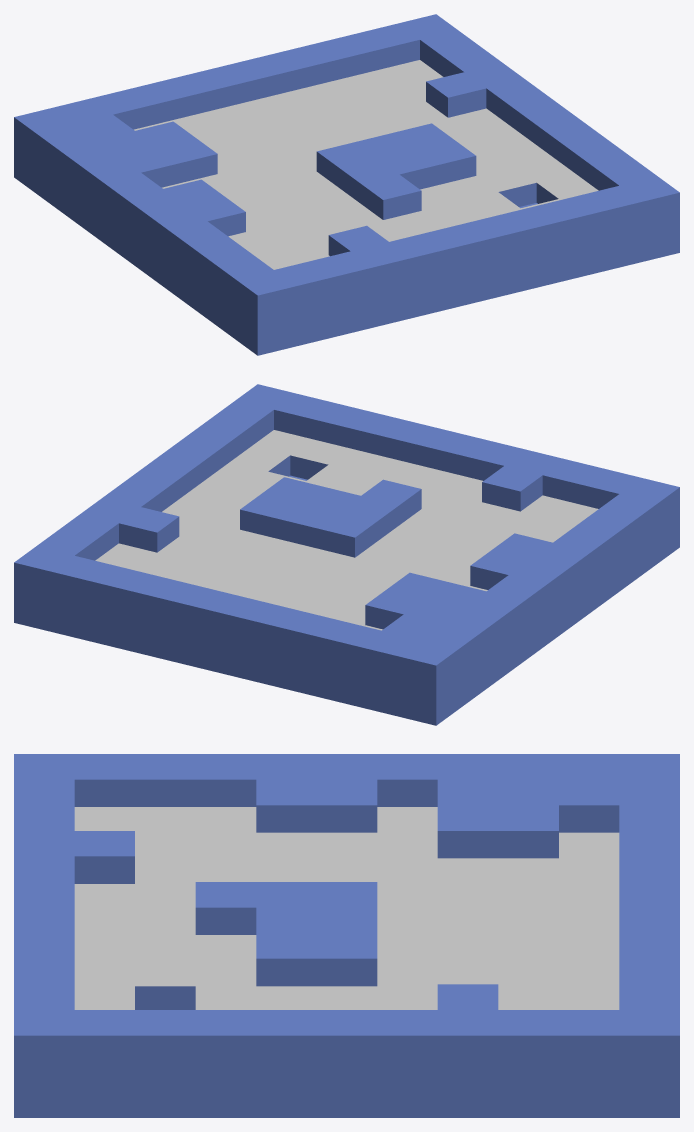
Rendered from 021_platform.fbx.
3 renders of one model, top to bottom at view 1: azimuth 30°, elevation 25°; view 2: azimuth 150°, elevation 25°; view 3: azimuth 270°, elevation 25°, orthographic. The views are drawn at different scales.
Parts seen in each view (by area): view 1: Cube; view 2: Cube; view 3: Cube.
Part boxes in pixels (<box>): Cube: <box>14,14,679,355</box>; Cube: <box>14,384,679,725</box>; Cube: <box>14,754,679,1117</box>.
Bounding box in the file's own units: 1100 × 150 × 1100.
